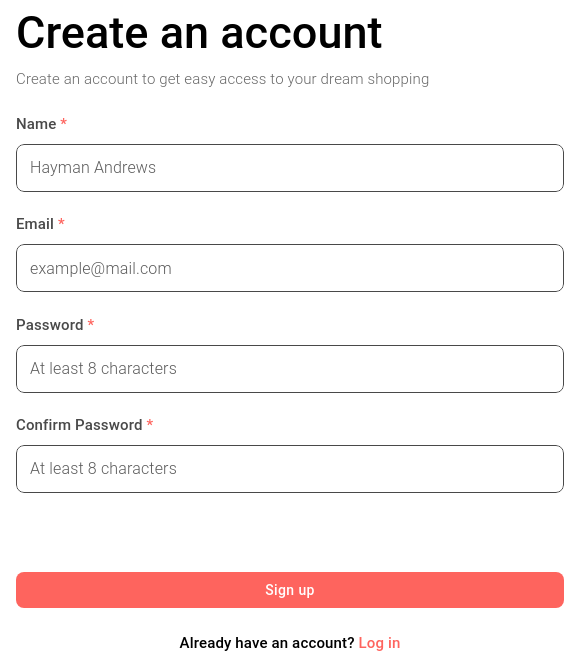
Test case: SignUp Page › handles duplicate email registration
Type "John Doe" into the field labelled "Name" at (290, 168), box [16,140,564,196]
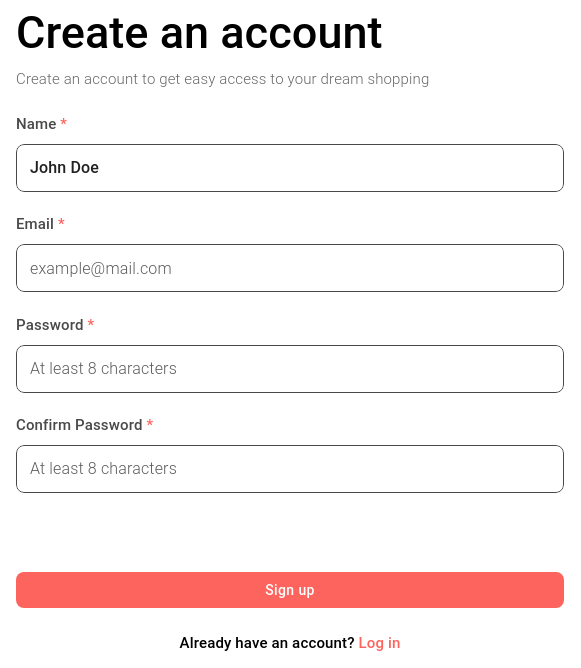
Type "Qwerty12@" into the password field labelled "Password" at (290, 368), box [16,340,564,396]
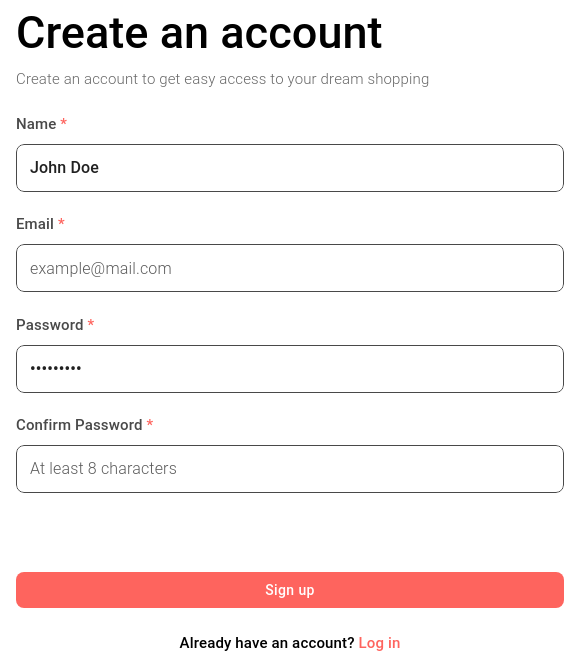
Type "Qwerty12@" into the password field labelled "Confirm Password" at (290, 469), box [16,441,564,497]
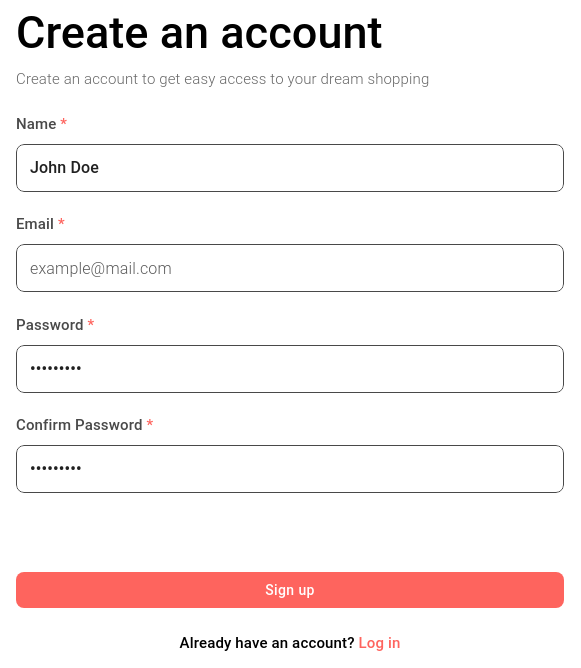
Type "duplicate@mail.com" into the field labelled "Email" at (290, 268), box [16,240,564,296]
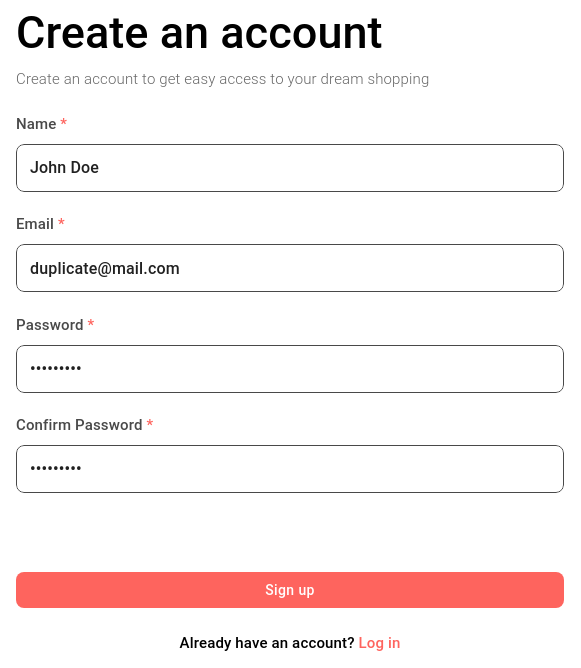
Click the button "Sign up" at (290, 590), box [16,572,564,608]
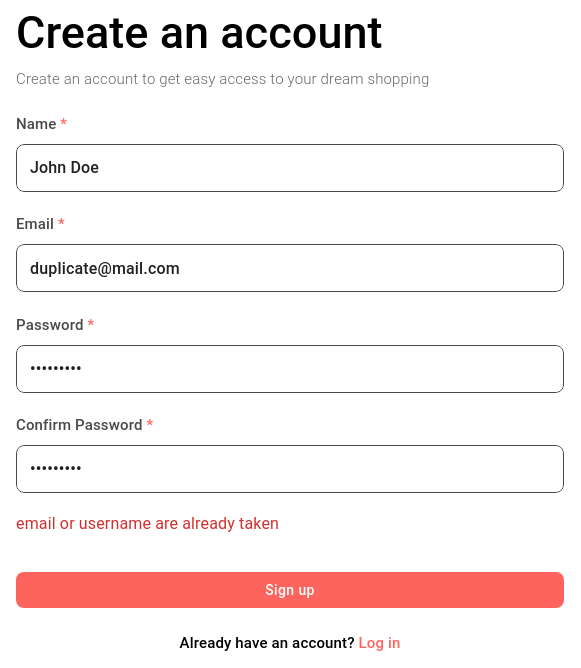
Now the text "email or username are already taken" is shown, box [16,516,279,532]
